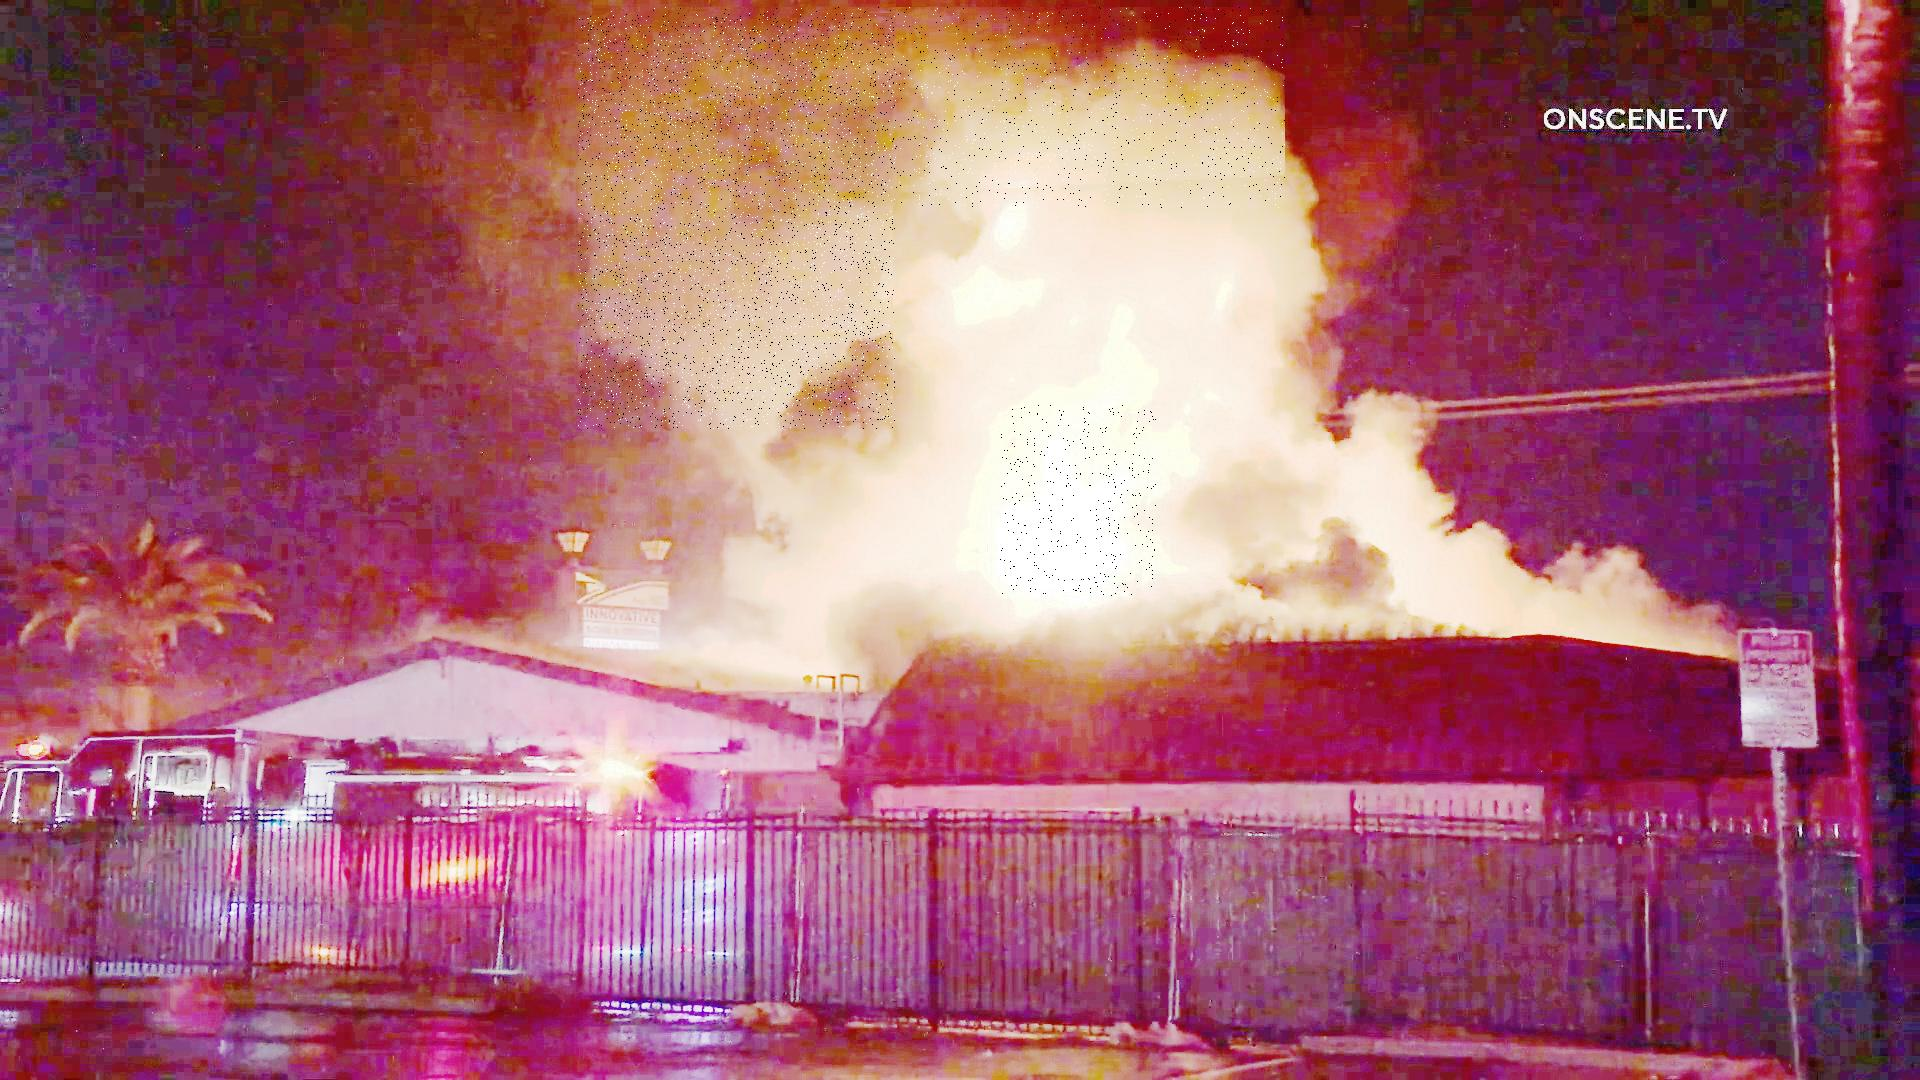fire: (1001, 405, 1156, 596)
smoke: (611, 8, 1286, 208), (579, 15, 895, 429)
